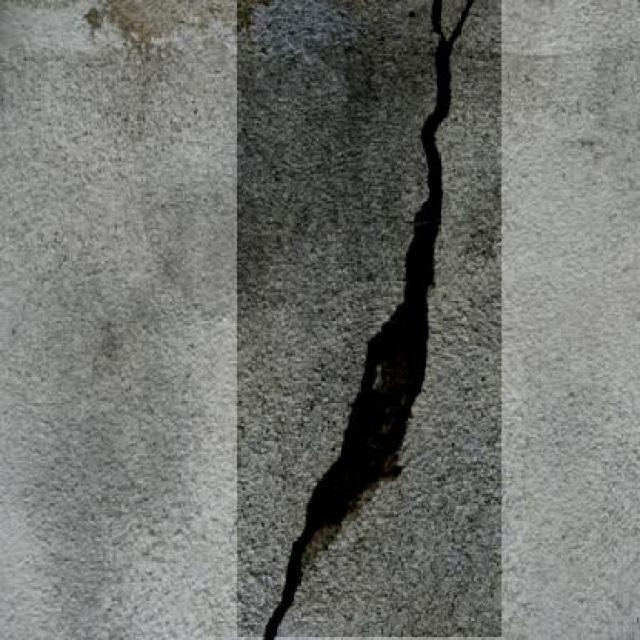Crack: (237, 4, 506, 640)
